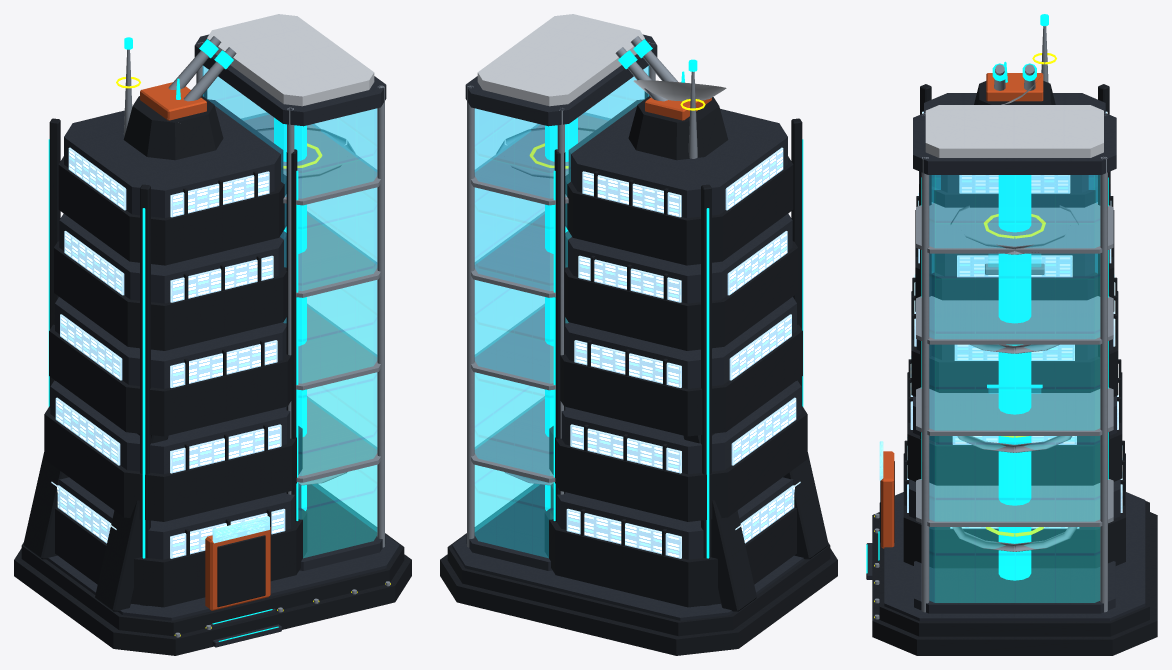
The model's file is bldg_20_r1_02.glb.
The picture shows the model from 3 angles, left to right: view 1: azimuth 30°, elevation 25°; view 2: azimuth 150°, elevation 25°; view 3: azimuth 270°, elevation 25°; orthographic projection.
Parts seen in each view (by area): view 1: Bldg20_C02_gunmetal, Bldg20_C02_carbon_slate, Bldg20_C02_glass_cyan, Bldg20_C02_steel_machined, Bldg20_C02_window_lit, Bldg20_C02_aero_white, Bldg20_C02_led_cyan, Bldg20_C02_accent_orange, Bldg20_C02_marquee; view 2: Bldg20_C02_gunmetal, Bldg20_C02_carbon_slate, Bldg20_C02_glass_cyan, Bldg20_C02_steel_machined, Bldg20_C02_window_lit, Bldg20_C02_aero_white, Bldg20_C02_led_cyan, Bldg20_C02_accent_orange; view 3: Bldg20_C02_glass_cyan, Bldg20_C02_gunmetal, Bldg20_C02_steel_machined, Bldg20_C02_carbon_slate, Bldg20_C02_led_cyan, Bldg20_C02_aero_white, Bldg20_C02_window_lit, Bldg20_C02_accent_orange, Bldg20_C02_led_amber.
Part boxes in pixels (left/top/right/bottom): Bldg20_C02_gunmetal: left=14, top=90, right=411, bottom=655; Bldg20_C02_carbon_slate: left=46, top=34, right=399, bottom=647; Bldg20_C02_glass_cyan: left=202, top=65, right=377, bottom=557; Bldg20_C02_steel_machined: left=123, top=36, right=390, bottom=637; Bldg20_C02_window_lit: left=51, top=147, right=285, bottom=558; Bldg20_C02_aero_white: left=207, top=14, right=374, bottom=106; Bldg20_C02_led_cyan: left=48, top=37, right=306, bottom=641; Bldg20_C02_accent_orange: left=140, top=82, right=270, bottom=610; Bldg20_C02_marquee: left=212, top=516, right=269, bottom=543; Bldg20_C02_gunmetal: left=440, top=91, right=837, bottom=655; Bldg20_C02_carbon_slate: left=452, top=34, right=805, bottom=620; Bldg20_C02_glass_cyan: left=474, top=65, right=649, bottom=557; Bldg20_C02_steel_machined: left=467, top=36, right=697, bottom=547; Bldg20_C02_window_lit: left=566, top=147, right=800, bottom=558; Bldg20_C02_aero_white: left=477, top=14, right=726, bottom=106; Bldg20_C02_led_cyan: left=545, top=39, right=803, bottom=558; Bldg20_C02_accent_orange: left=645, top=97, right=711, bottom=120; Bldg20_C02_glass_cyan: left=929, top=175, right=1099, bottom=602; Bldg20_C02_gunmetal: left=872, top=81, right=1157, bottom=655; Bldg20_C02_steel_machined: left=874, top=26, right=1113, bottom=619; Bldg20_C02_carbon_slate: left=866, top=93, right=1145, bottom=621; Bldg20_C02_led_cyan: left=866, top=14, right=1108, bottom=580; Bldg20_C02_aero_white: left=925, top=74, right=1103, bottom=157; Bldg20_C02_window_lit: left=907, top=111, right=1122, bottom=528; Bldg20_C02_accent_orange: left=881, top=73, right=1043, bottom=548; Bldg20_C02_led_amber: left=874, top=53, right=1056, bottom=617.
Size of the model in its own units: 12.5 by 21.72 by 10.71.
Materials: 10 (10 with a texture image).
